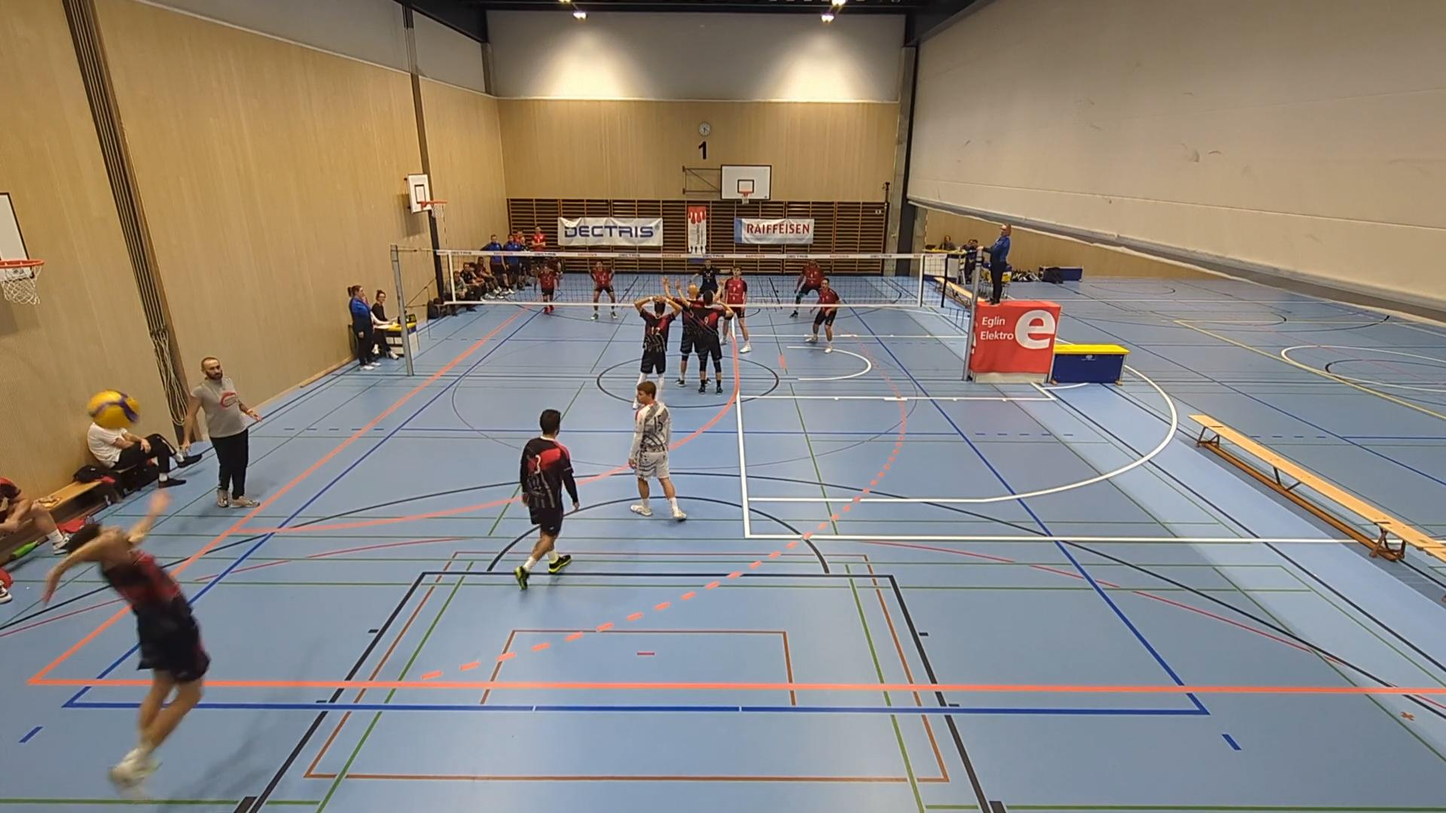battuta: (37, 492, 222, 786)
